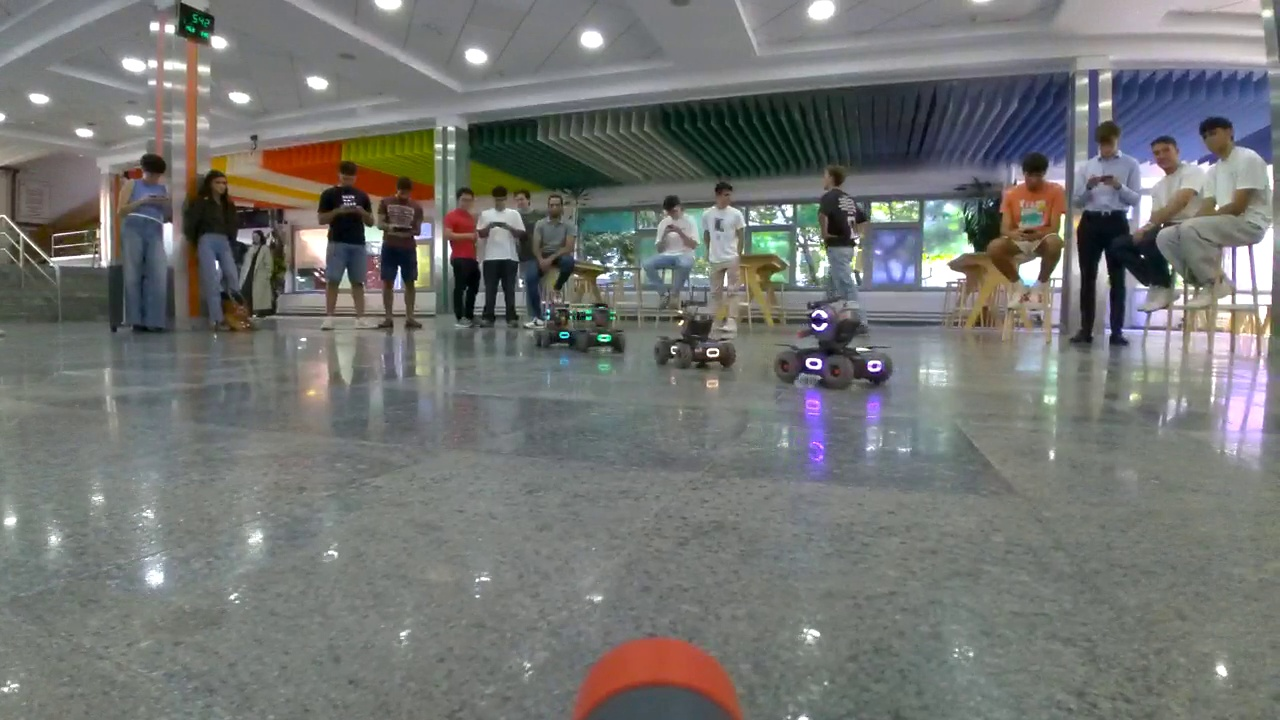robot: (772, 296, 893, 388), (649, 311, 735, 368), (571, 297, 629, 357), (533, 300, 574, 351)
